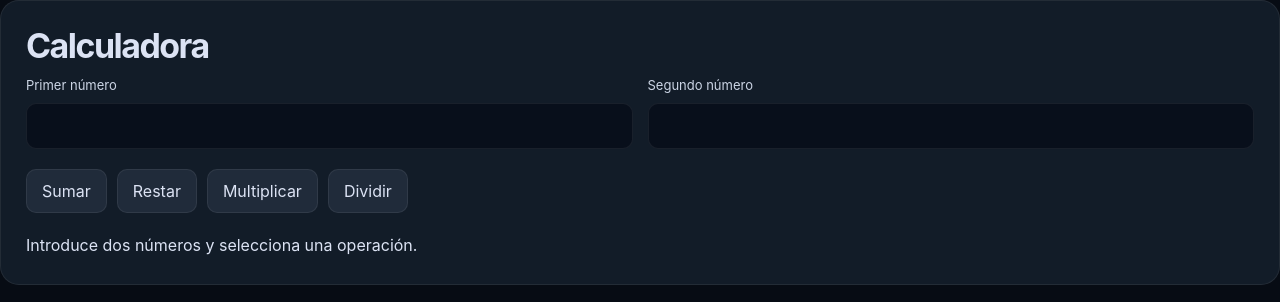
Test: los inputs vacíos no se convierten silenciosamente en cero
The image size is (1280, 302).
What coordinates should you click on to do the following:
click the button "Sumar"
I would click on:
 (66, 191)
Its box is [26,169,107,213].
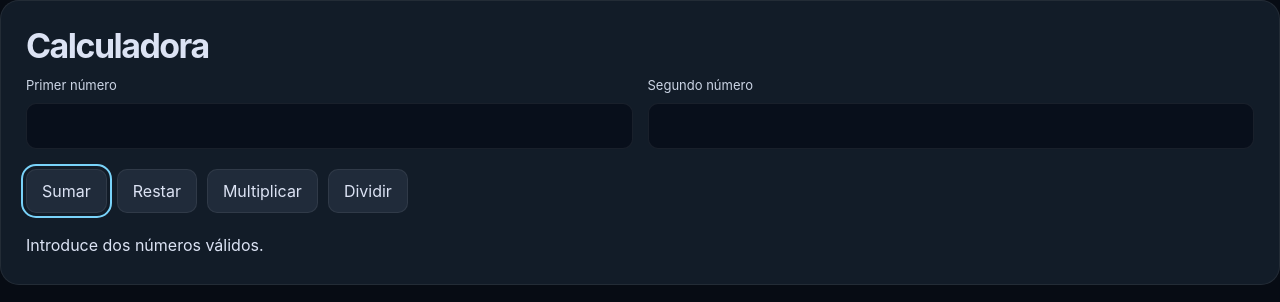
Result: the message reads "Introduce dos números válidos." at [26,235,264,255]
